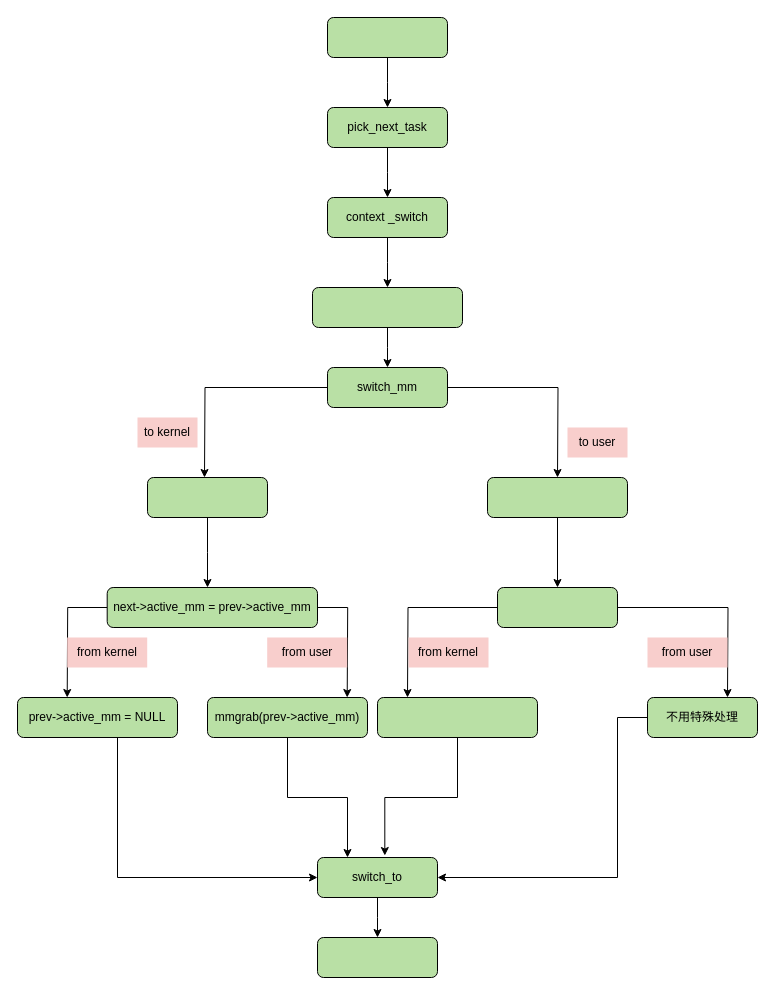
The diagram is 775 pixels wide and 995 high, and some of its shapes have lost their labels. Each missing label, with the centre of its shape:
enter_lazy_tlb: the point at 207,497
finish_task_switch: the point at 377,957
membarrier_switch_mm: the point at 557,497
prepare_task_switch: the point at 387,307
prev->active_mm = NULL;: the point at 457,717
schedule: the point at 387,37
switch_mm_irqs_off: the point at 557,607
